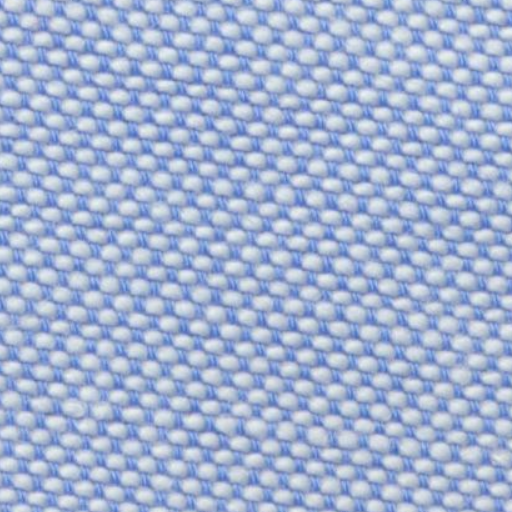TuoSha: (12, 26, 500, 142), (14, 366, 502, 478)
